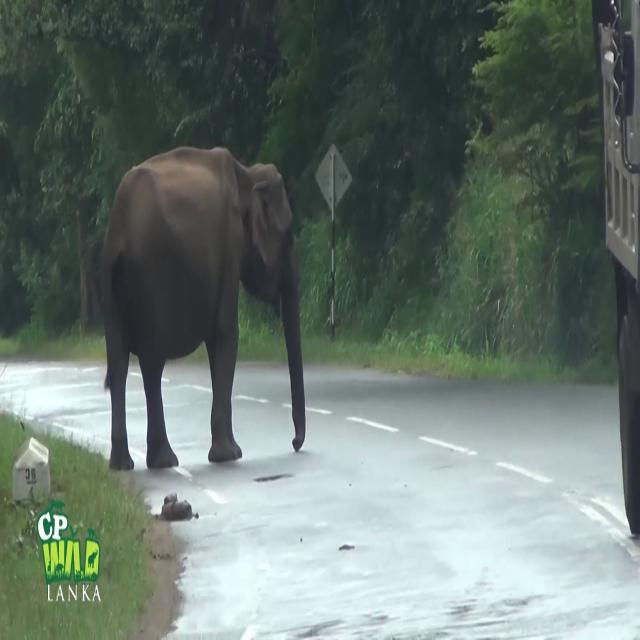Elephant: (99, 144, 306, 471)
